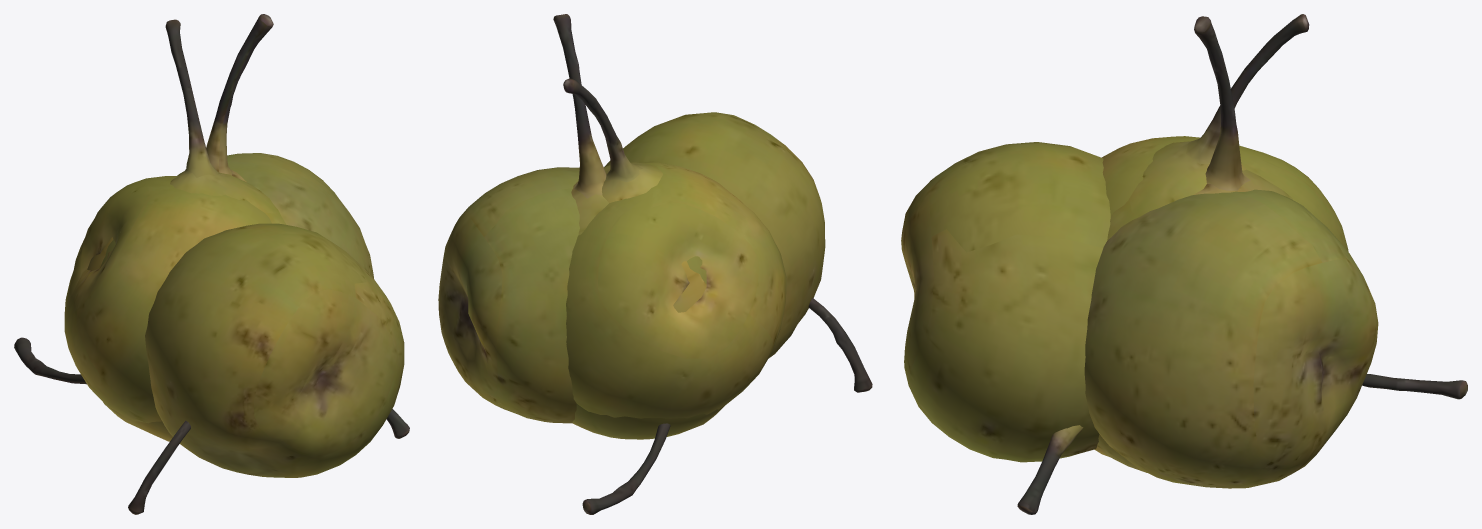
Rendered from food_pears_asian_01.glb.
The picture shows the model from 3 angles, left to right: view 1: azimuth 30°, elevation 25°; view 2: azimuth 150°, elevation 25°; view 3: azimuth 270°, elevation 25°; orthographic projection. The views are drawn at different scales.
Parts seen in each view (by area): view 1: food_pears_asian_01_c_lod0, food_pears_asian_01_e_lod0, food_pears_asian_01_a_lod0, food_pears_asian_01_d_lod0, food_pears_asian_01_b_lod0; view 2: food_pears_asian_01_e_lod0, food_pears_asian_01_a_lod0, food_pears_asian_01_c_lod0, food_pears_asian_01_b_lod0, food_pears_asian_01_d_lod0; view 3: food_pears_asian_01_a_lod0, food_pears_asian_01_c_lod0, food_pears_asian_01_e_lod0, food_pears_asian_01_d_lod0, food_pears_asian_01_b_lod0.
Part boxes in pixels (x1,y1,x2,y2): food_pears_asian_01_c_lod0: (14, 223, 404, 477); food_pears_asian_01_e_lod0: (64, 176, 409, 438); food_pears_asian_01_a_lod0: (128, 153, 373, 514); food_pears_asian_01_d_lod0: (100, 19, 286, 266); food_pears_asian_01_b_lod0: (87, 14, 273, 441); food_pears_asian_01_e_lod0: (566, 161, 786, 418); food_pears_asian_01_a_lod0: (438, 167, 872, 423); food_pears_asian_01_c_lod0: (582, 112, 825, 514); food_pears_asian_01_b_lod0: (553, 14, 724, 439); food_pears_asian_01_d_lod0: (563, 78, 706, 284); food_pears_asian_01_a_lod0: (1084, 189, 1378, 488); food_pears_asian_01_c_lod0: (901, 142, 1467, 462); food_pears_asian_01_e_lod0: (1017, 136, 1348, 514); food_pears_asian_01_d_lod0: (1097, 14, 1309, 472); food_pears_asian_01_b_lod0: (1094, 16, 1292, 457).
Size of what is drawn, in the model's own units: 0.0621 by 0.0712 by 0.0797.
1 material, 1 textured.
